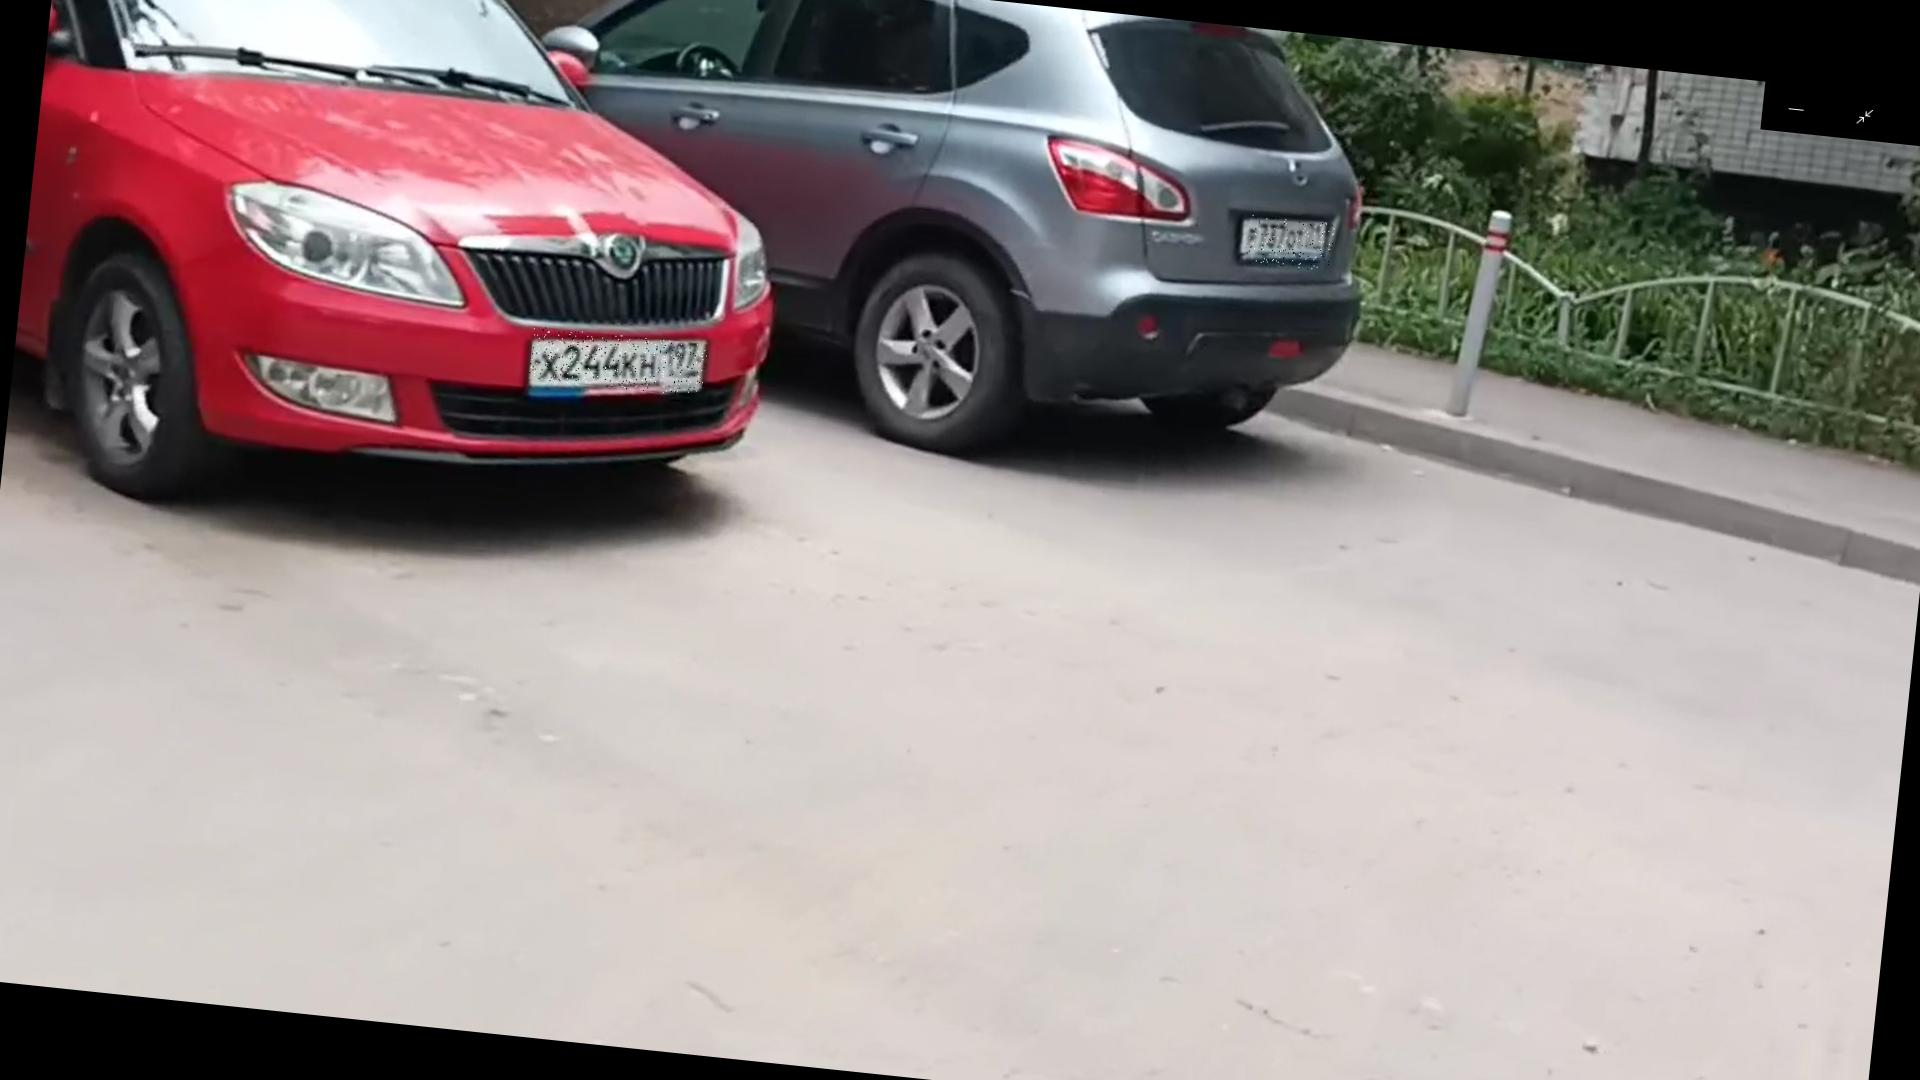plate: (530, 328, 710, 399), (1247, 216, 1337, 274)
